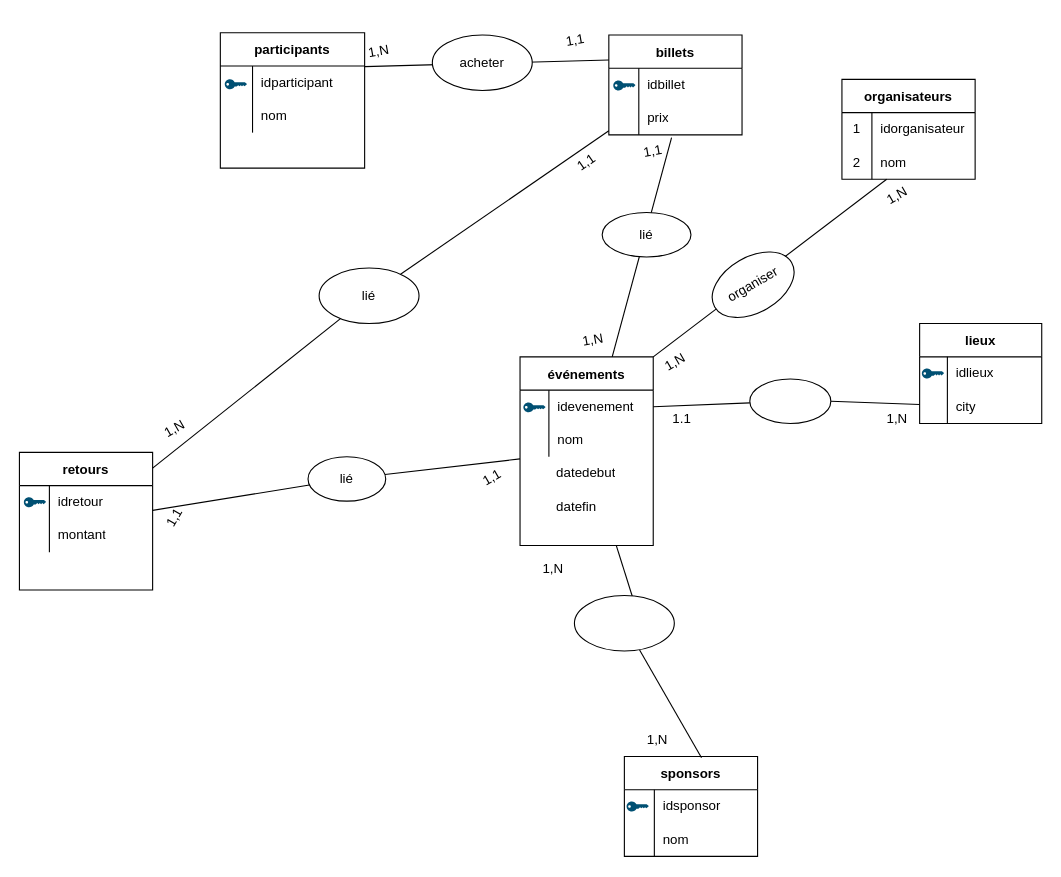
The diagram is 1061 pixels wide and 877 high, and some of its shapes have lost their labels. Here are the shapes that lost their labels. From the top down, the centre of each, then its label:
At point 790,400: "dans".
At point 623,622: "sponsorisé".
